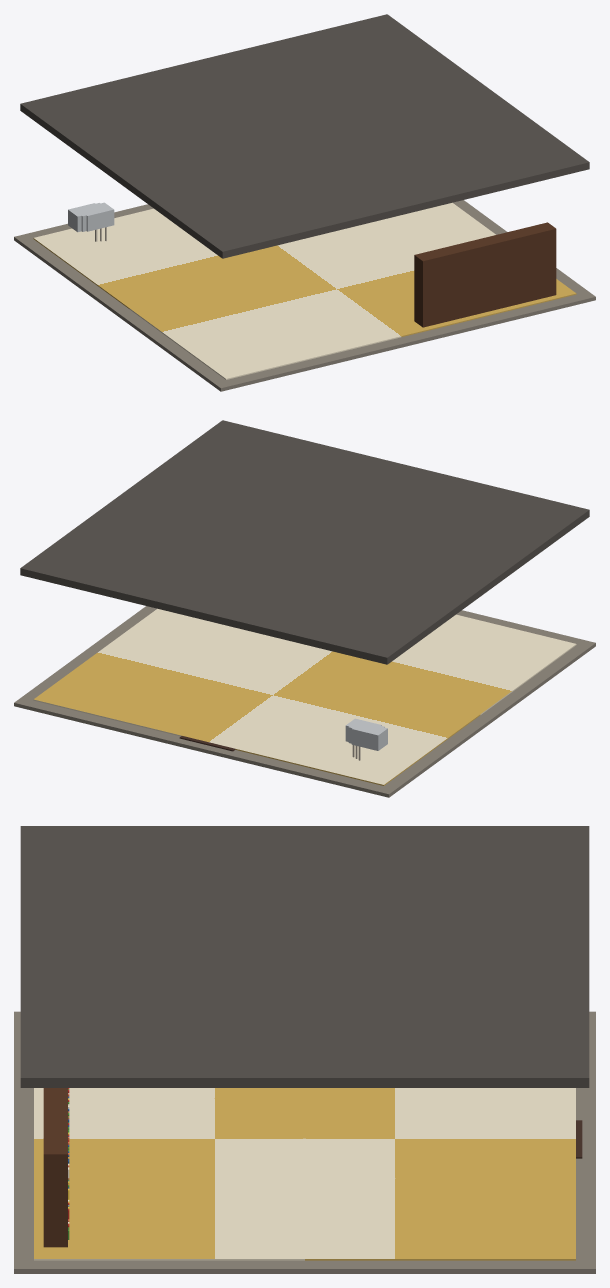
The model's file is structure.glb.
3 views of the same model, one above another, from view 1: azimuth 30°, elevation 25°; view 2: azimuth 150°, elevation 25°; view 3: azimuth 270°, elevation 25° (orthographic). The views are drawn at different scales.
Visible parts, largest first — view 1: Box5, Box2, Box7, Box1, Box245; view 2: Box5, Box2, Box1, Box241; view 3: Box5, Box2, Box1, Box7.
Boxes of the visible parts, bbox=[...] form: Box5: bbox=[20, 14, 589, 258]; Box2: bbox=[33, 202, 576, 379]; Box7: bbox=[414, 222, 556, 327]; Box1: bbox=[14, 200, 595, 391]; Box245: bbox=[86, 202, 114, 231]; Box5: bbox=[20, 420, 589, 664]; Box2: bbox=[33, 608, 576, 785]; Box1: bbox=[14, 606, 595, 797]; Box241: bbox=[351, 722, 387, 750]; Box5: bbox=[20, 826, 589, 1087]; Box2: bbox=[34, 1088, 575, 1260]; Box1: bbox=[14, 1011, 595, 1273]; Box7: bbox=[43, 1088, 67, 1247].
Bounding box in the file's own units: 11.24 × 3.93 × 10.74.
15 materials, 1 textured.
